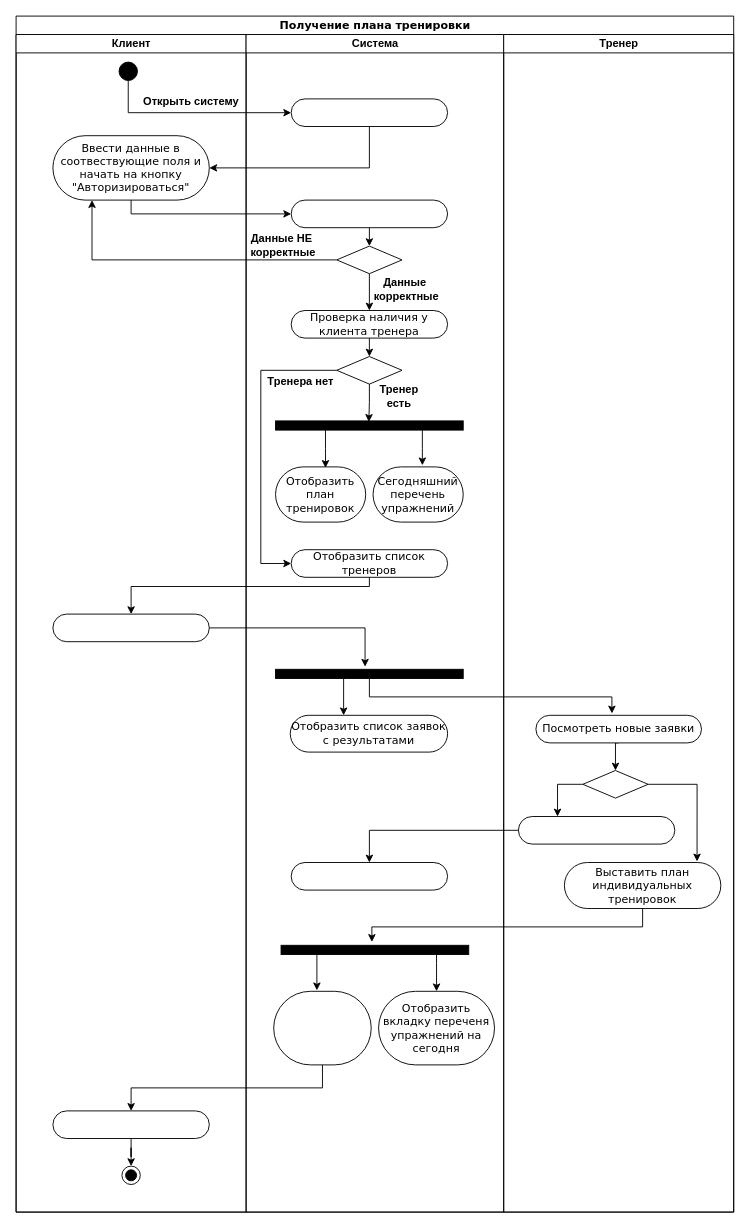
This 750x1228 diagram has some shape labels left out. The shapes that lost their labels are listed below. From the top down, each one's centre as x and y in pixels, then its label:
At [369,112]: "Обтобразить форму авторизации".
At [369,213]: "Проверка телефона и пароля".
At [130,627]: "Выбрать тренера и отправить заявку".
At [596,830]: "Указать причину отклонения заявки".
At [369,876]: "Обновить список заявок с результатами".
At [322,1027]: "Отобразить вкладку плана тренировок".
At [130,1124]: "Посмотреть план тренировок".
